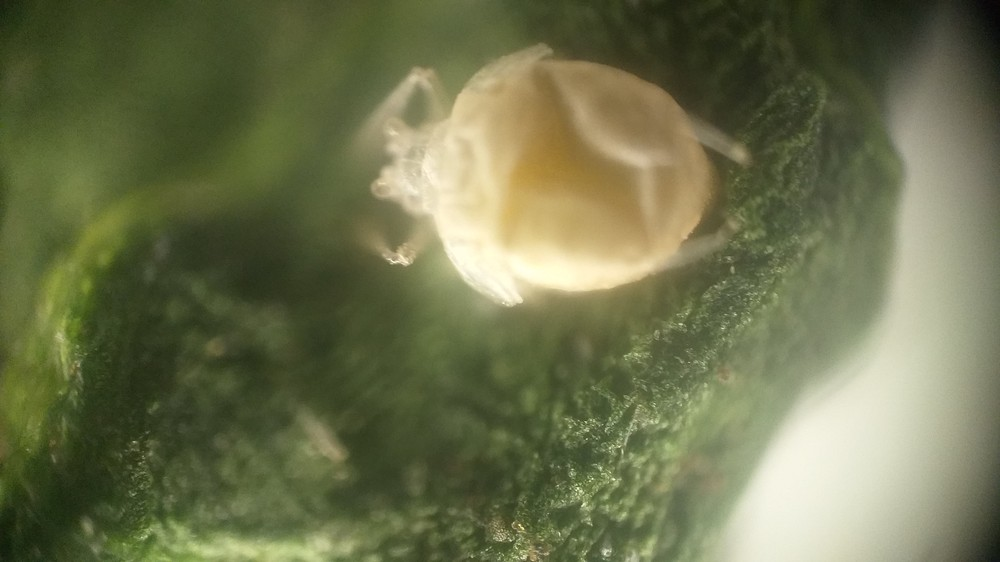Pulgon: (344, 37, 772, 324)
